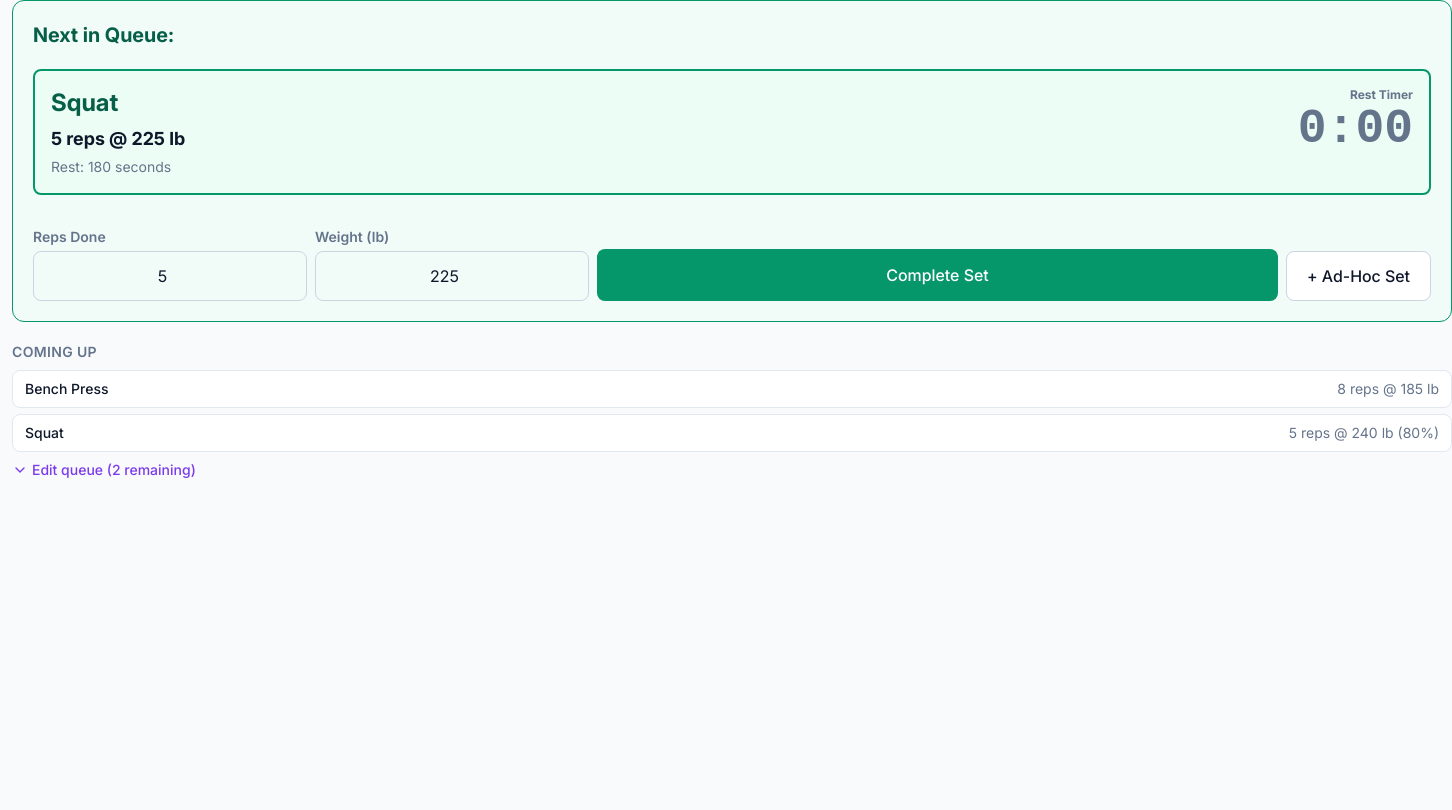
Scenario: SetQueue › shows expand button to reveal full editable queue table
The width and height of the screenshot is (1452, 810).
Click the button with test id "expand-queue-btn": [104, 470] box x1=12 y1=460 x2=196 y2=480
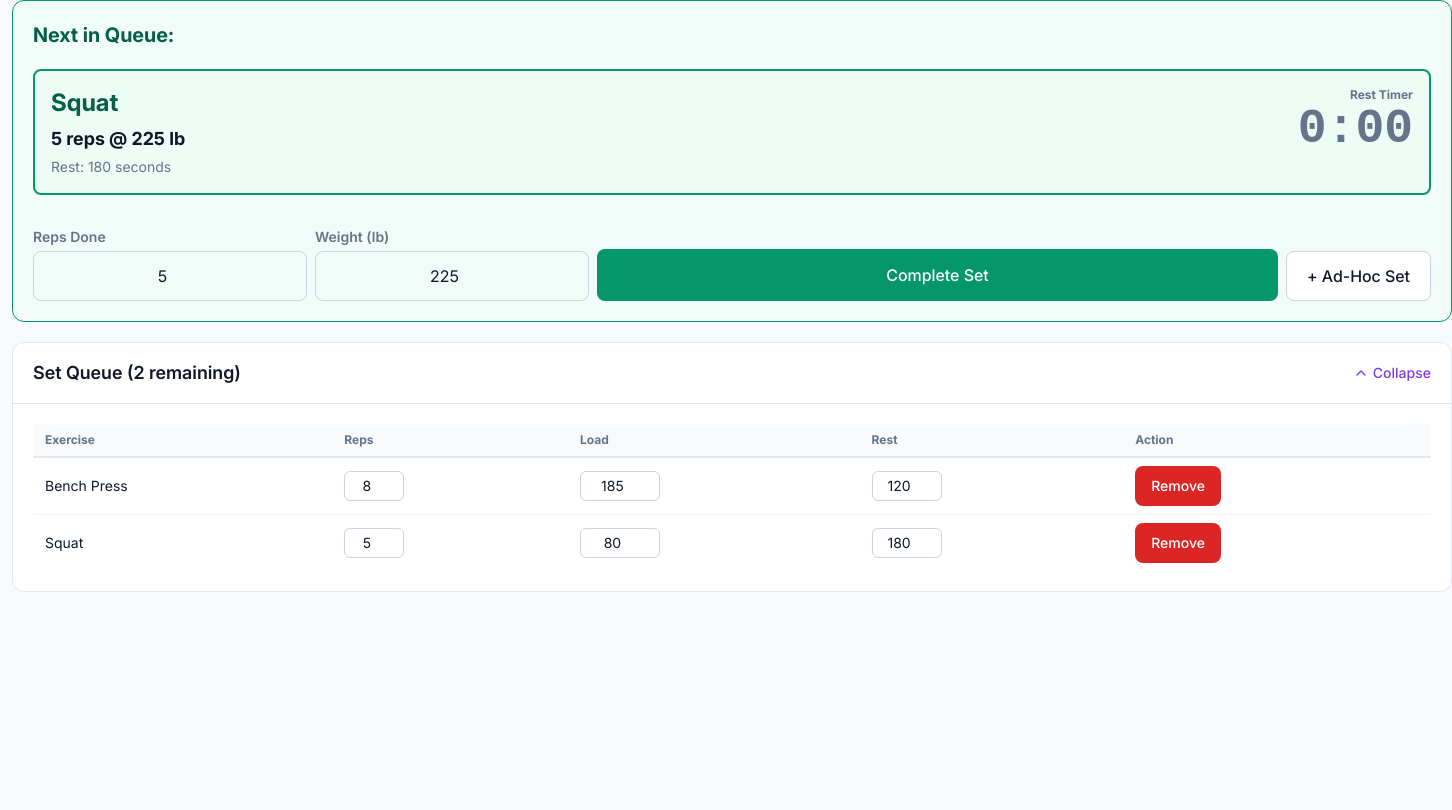
Result: the element with test id "full-queue-table" is shown at x1=12 y1=342 x2=1451 y2=592
Result: the row with test id "queue-row-2" shows "Bench Press" at x1=45 y1=477 x2=128 y2=494
Result: the row with test id "queue-row-3" shows "Squat" at x1=45 y1=534 x2=83 y2=551
